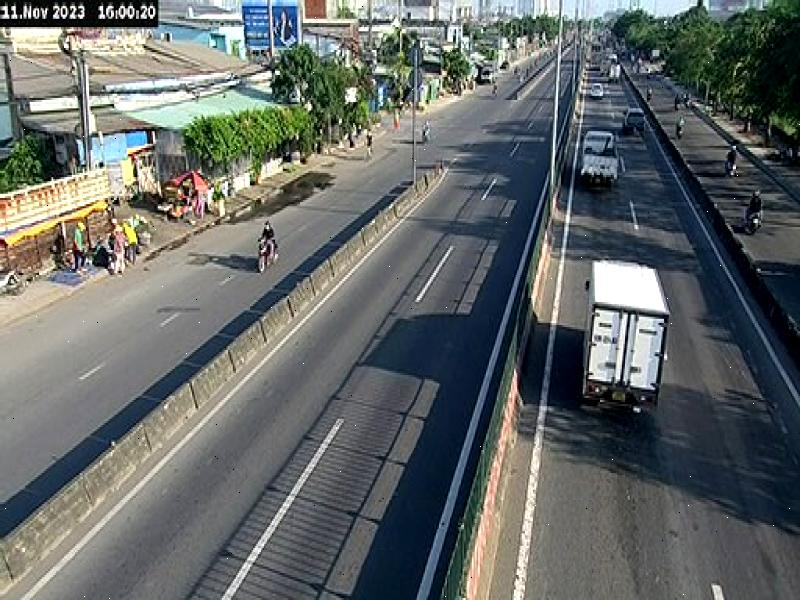truck: (577, 256, 669, 420), (576, 125, 620, 193)
